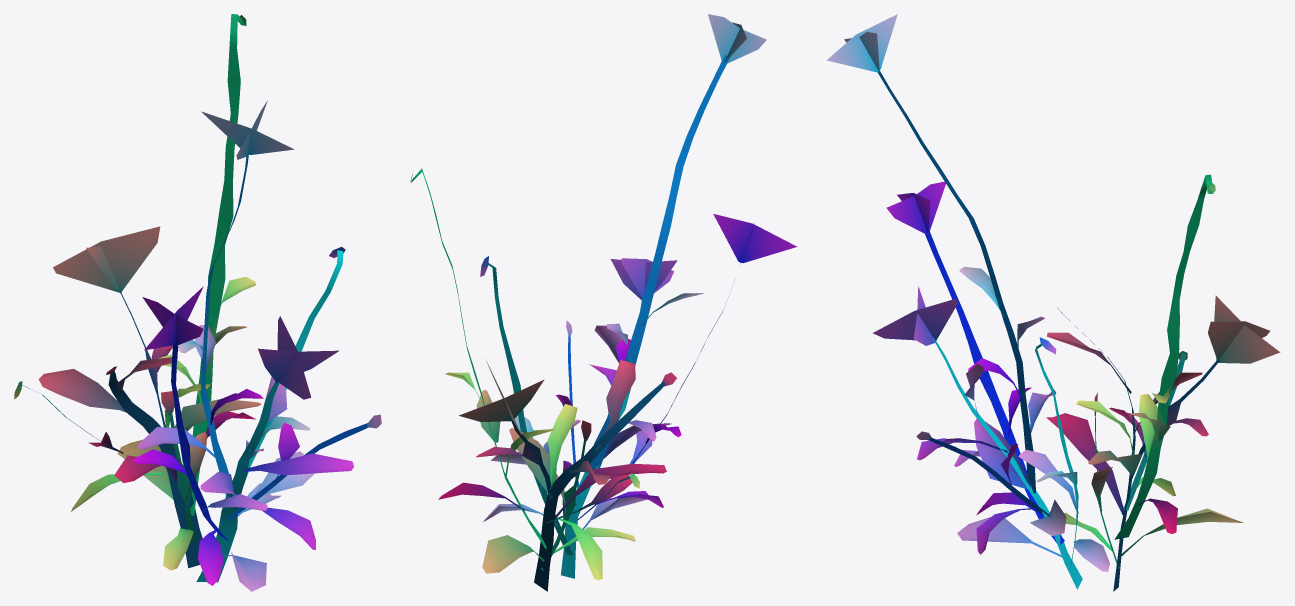
Rendered from Field_Poppy_vmcobd0ja_Low_vmcobd0ja_VarE_LOD1.fbx.
3 views of the same model, side by side, from view 1: azimuth 30°, elevation 25°; view 2: azimuth 150°, elevation 25°; view 3: azimuth 270°, elevation 25° (orthographic). The views are drawn at different scales.
Parts seen in each view (by area): view 1: _dtej_VarE_LOD3; view 2: _dtej_VarE_LOD3; view 3: _dtej_VarE_LOD3.
Boxes of the visible parts, x1,y1,x2,y2 form: _dtej_VarE_LOD3: [14, 14, 381, 591]; _dtej_VarE_LOD3: [410, 14, 797, 591]; _dtej_VarE_LOD3: [826, 14, 1280, 591].
Size of the model in its own units: 38.67 by 76 by 58.94.
